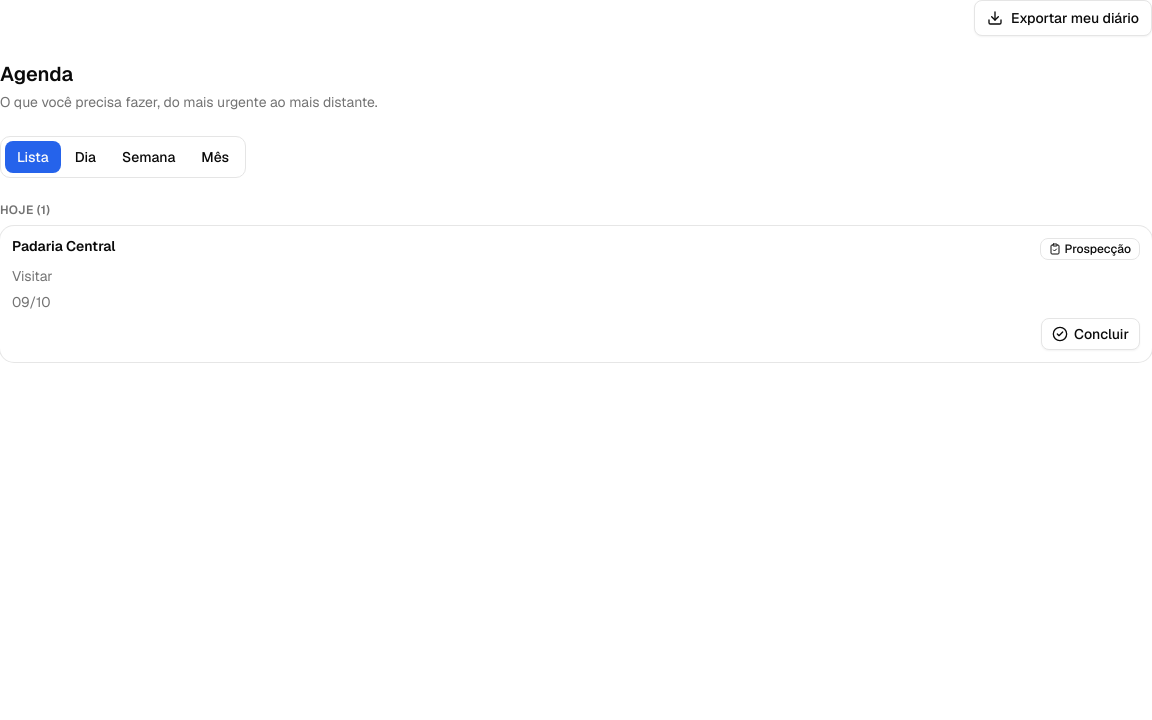
Test case: AgendaList + AgendaCalendario (integração, plano 20-05) › abrir pela visão de Semana abre a mesma ficha de cliente que a Lista abre
This screenshot has width=1152, height=720.
Expected: the text "Padaria Central" is shown, [12, 237, 116, 255]
Click the button "Semana" at coordinates (149, 157), box [110, 141, 187, 173]
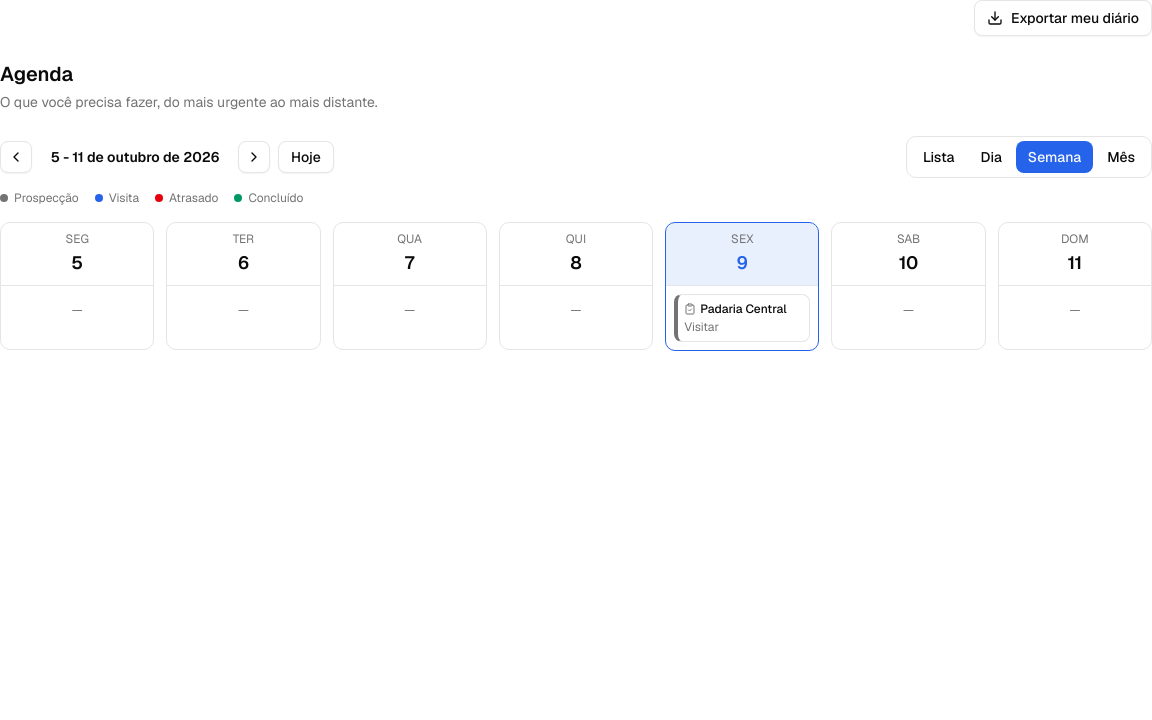
Click the button "Padaria Central Visitar" at coordinates (742, 318), box [674, 294, 810, 342]
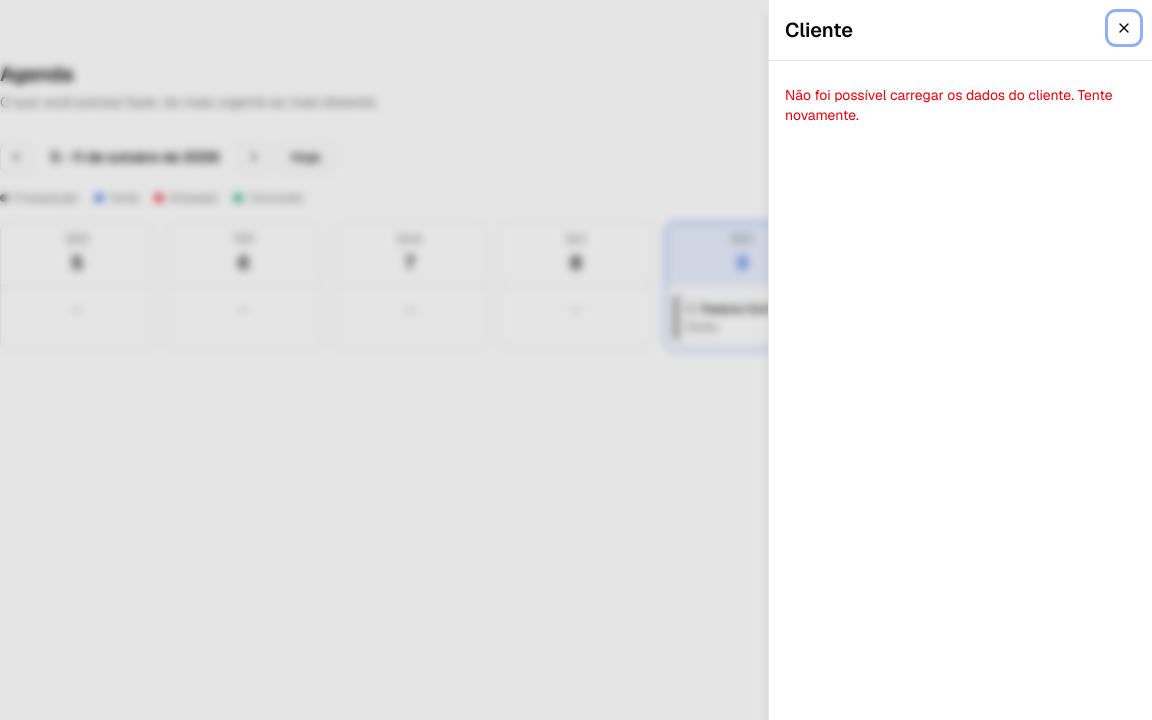
Expected: the text "Não foi possível carregar os dados do cliente. Tente novamente." is shown, [785, 86, 1112, 124]
